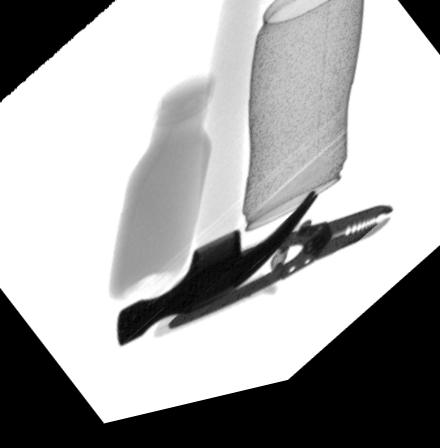Hammer: (114, 0, 316, 351)
Pliers: (148, 221, 392, 345)
